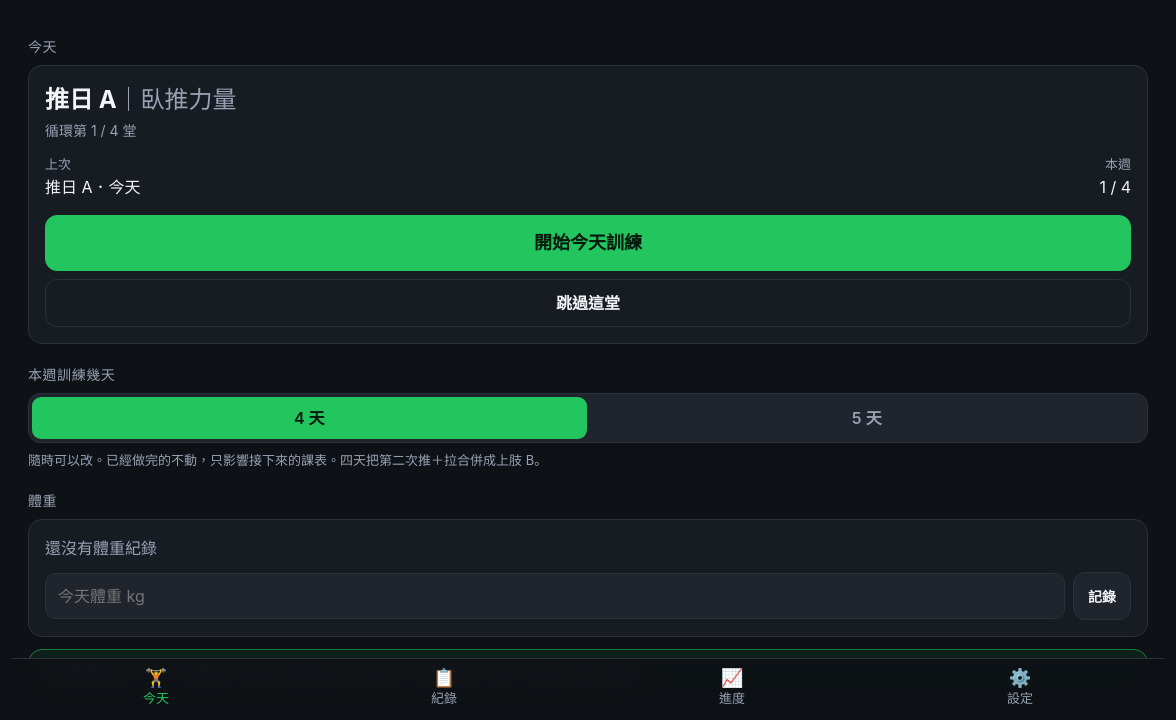
it: 跳過這堂 › 直接移到下一堂，不留紀錄
Expected: the heading "推日 A｜臥推力量" is shown, [45, 85, 237, 114]
Click the button "跳過這堂".
click(588, 302)  # box [45, 278, 1131, 326]
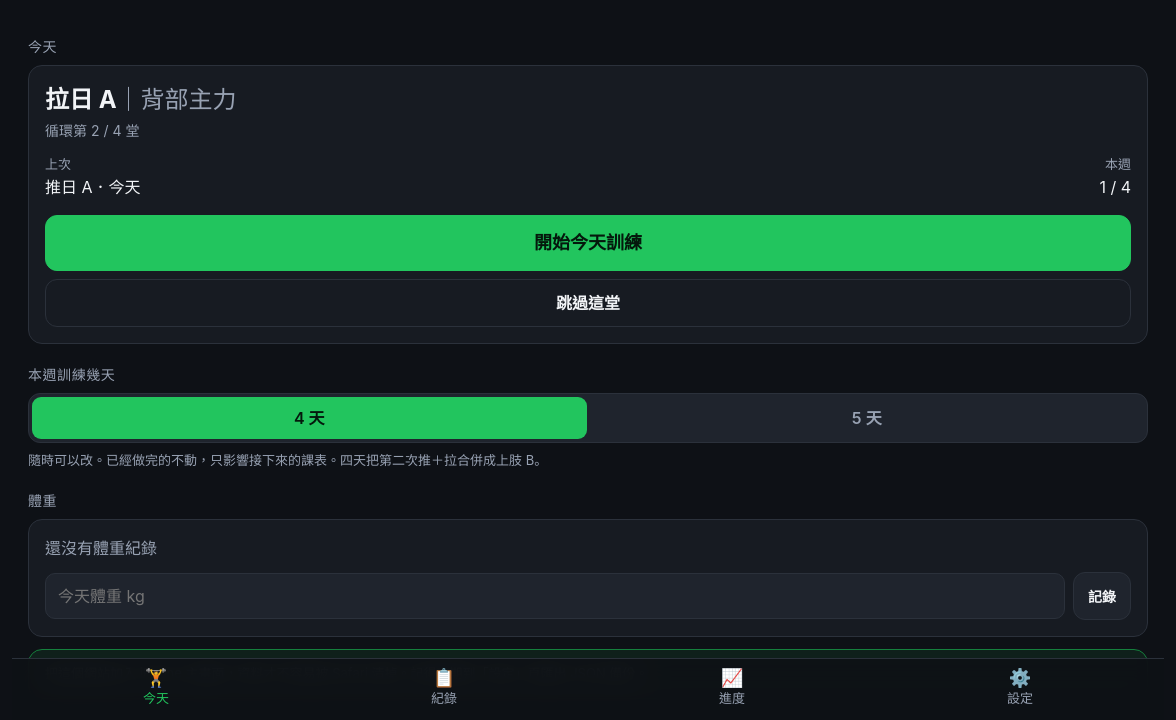
Expected: the heading "拉日 A｜背部主力" is shown, [45, 85, 237, 114]
